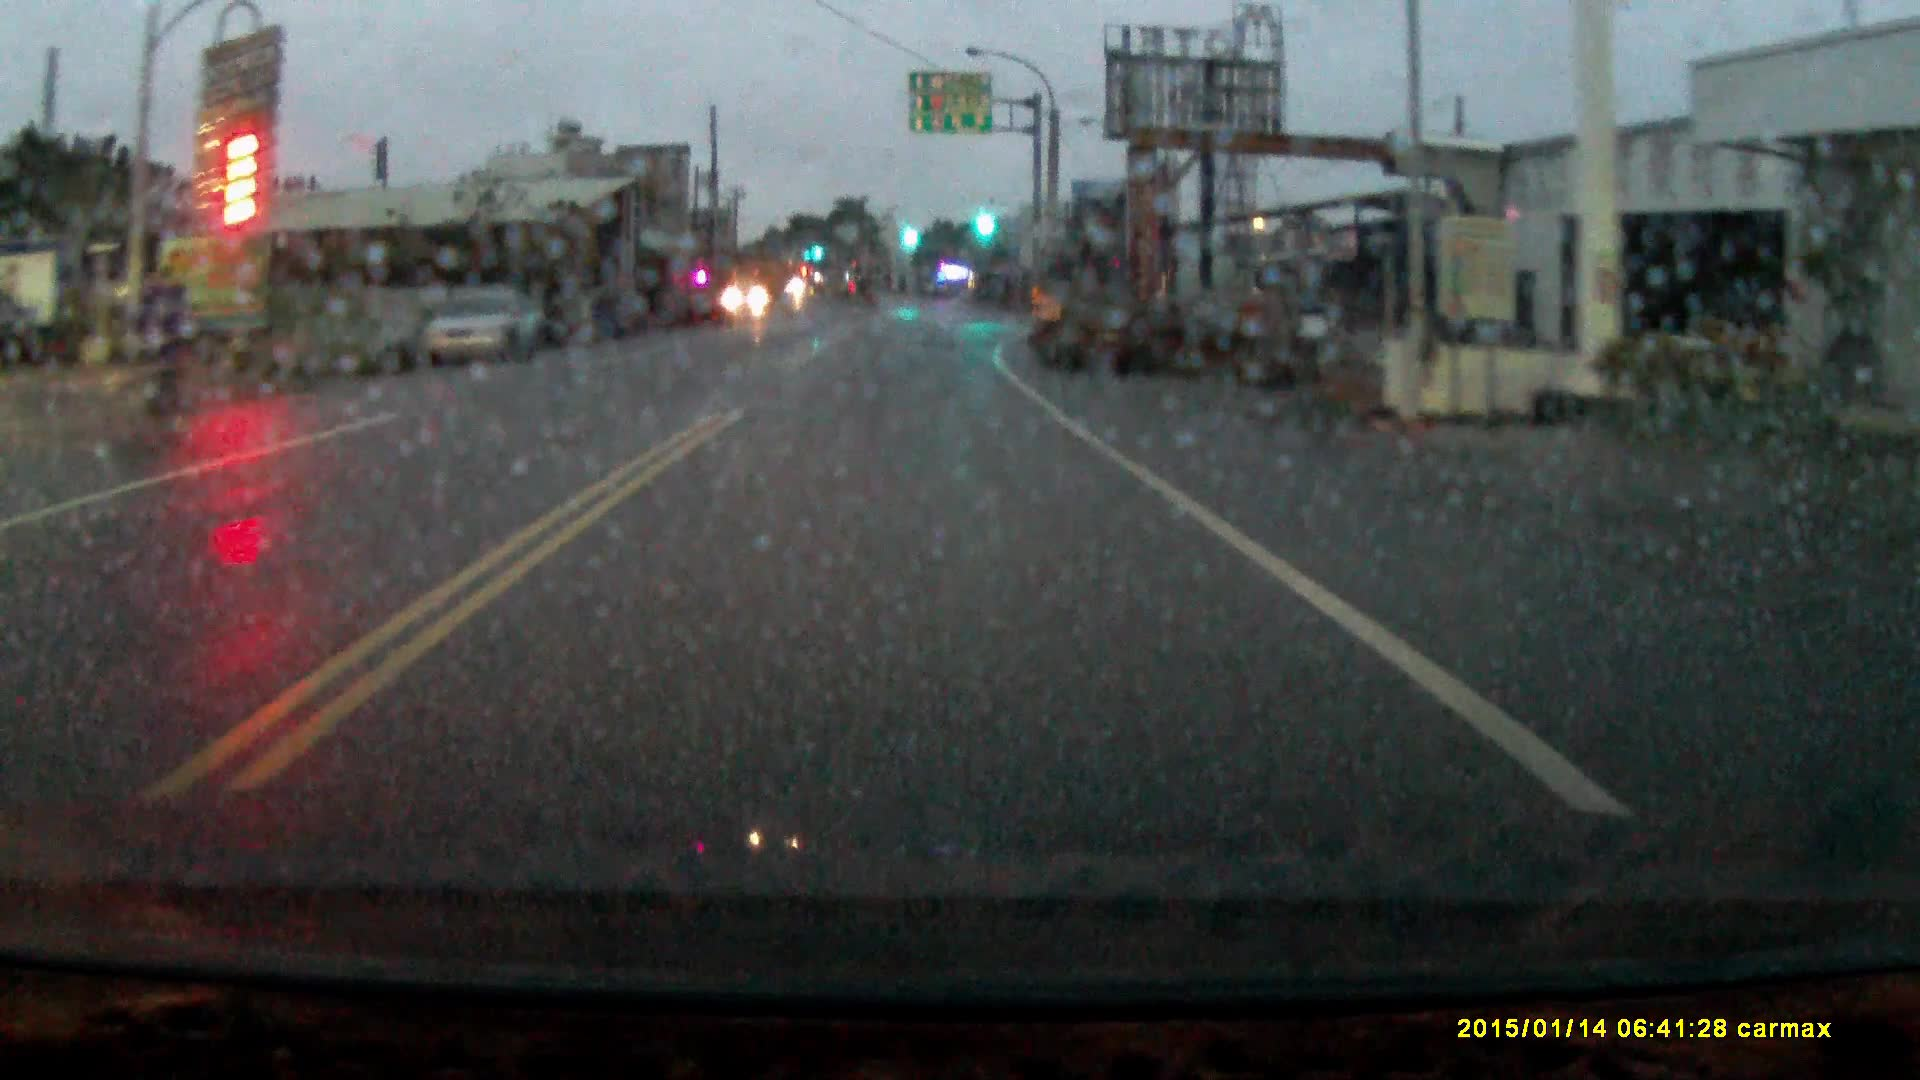rider: (100, 254, 203, 468)
vehicle: (1030, 259, 1150, 380), (419, 293, 548, 367), (720, 261, 788, 323)
